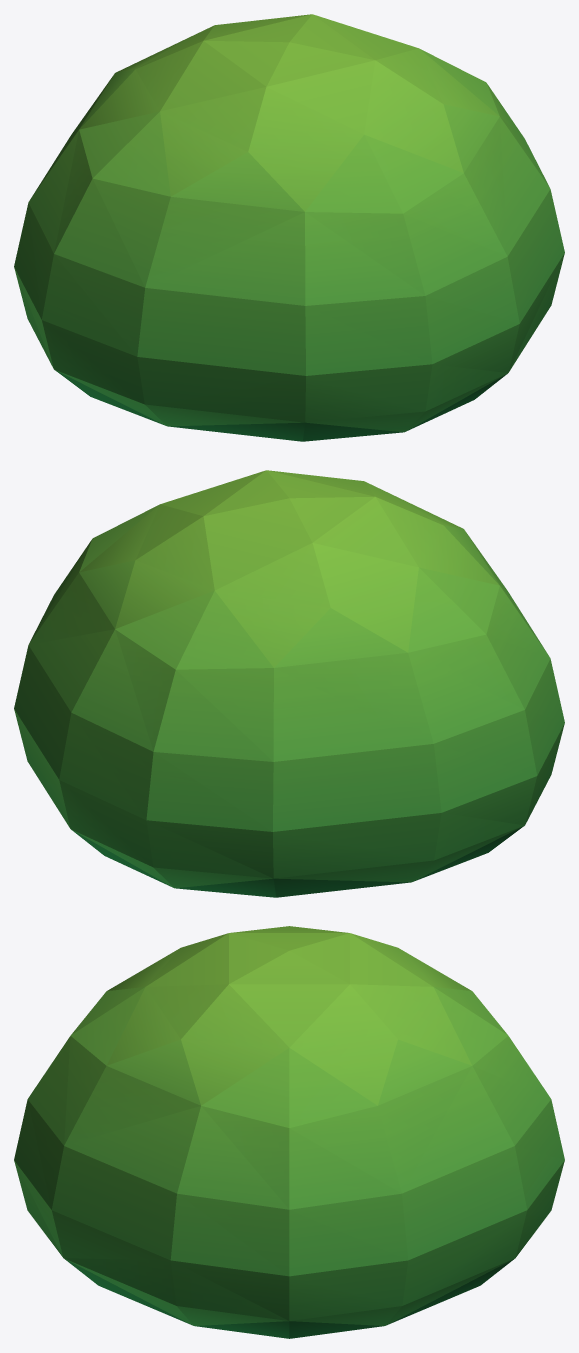
Rendered from kf_bush_1_d.fbx.
3 views of the same model, one above another, from view 1: azimuth 30°, elevation 25°; view 2: azimuth 150°, elevation 25°; view 3: azimuth 270°, elevation 25° (orthographic). The views are drawn at different scales.
Parts seen in each view (by area): view 1: kf_bush_1_d; view 2: kf_bush_1_d; view 3: kf_bush_1_d.
Part boxes in pixels (box(x1,y1,x2,y2)): kf_bush_1_d: box(14, 14, 564, 441); kf_bush_1_d: box(14, 470, 564, 897); kf_bush_1_d: box(14, 926, 564, 1338).
Size of the model in its own units: 2.51 by 1.59 by 2.51.
Materials: 1 (1 with a texture image).
